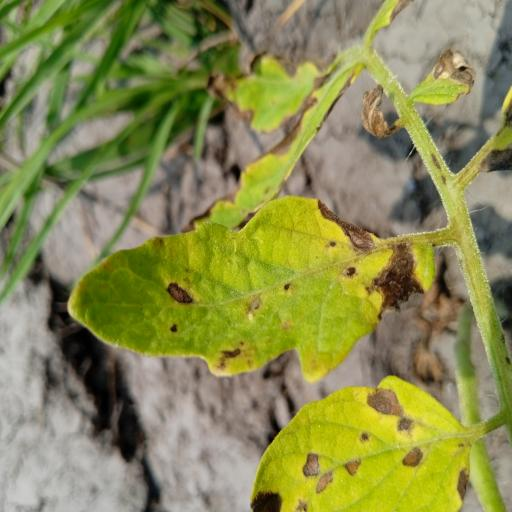Tomato_Brown_Spots: (64, 192, 436, 386), (249, 374, 481, 512)
